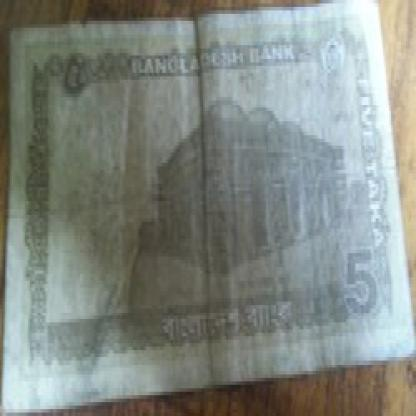Five Taka: (333, 243, 383, 322), (46, 48, 90, 111)
